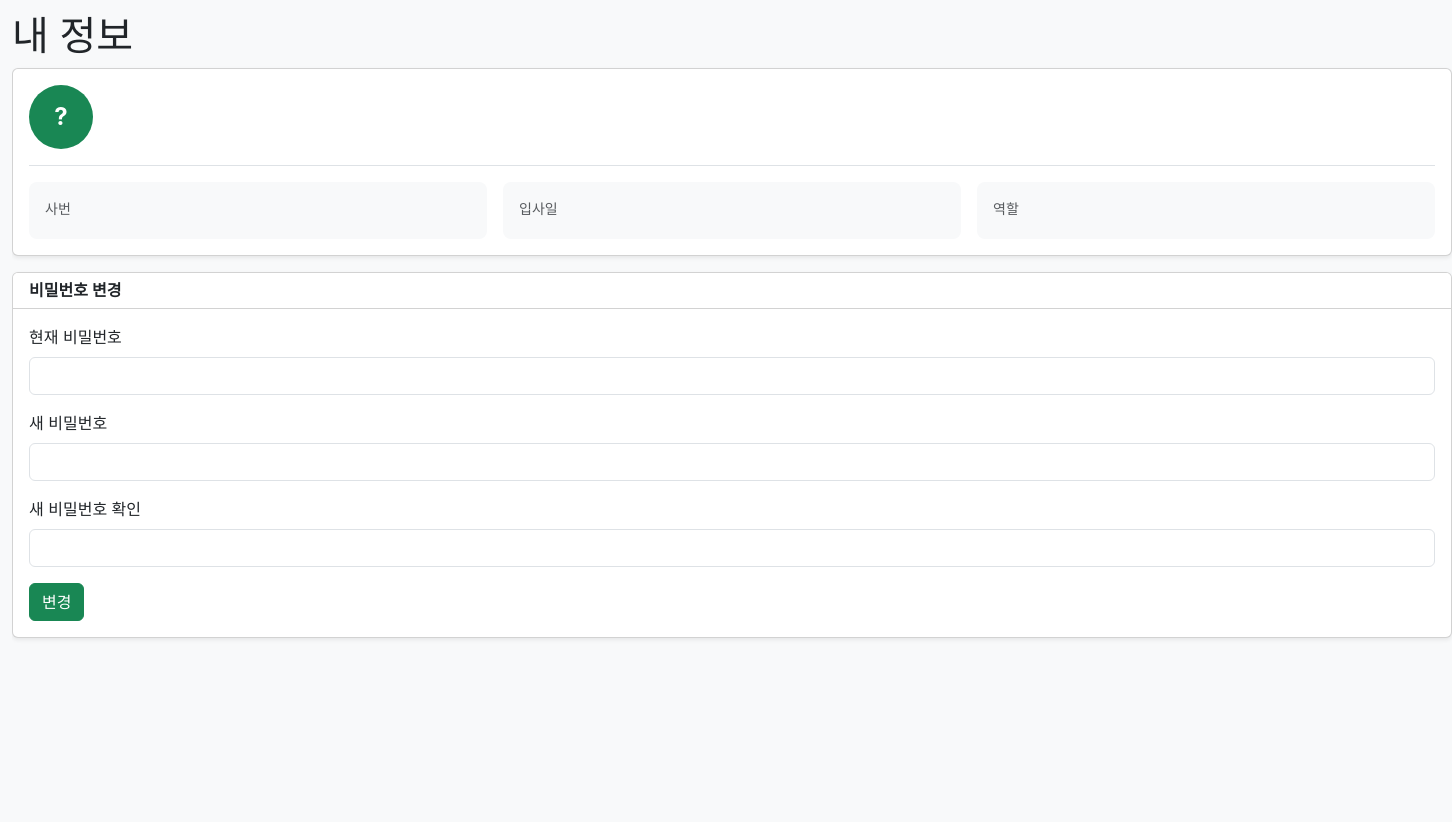
MePage › 정상 변경 시 완료 토스트를 표시한다
In the password field below "현재 비밀번호": [732, 376] box [29,357,1435,395], type "old-pw"
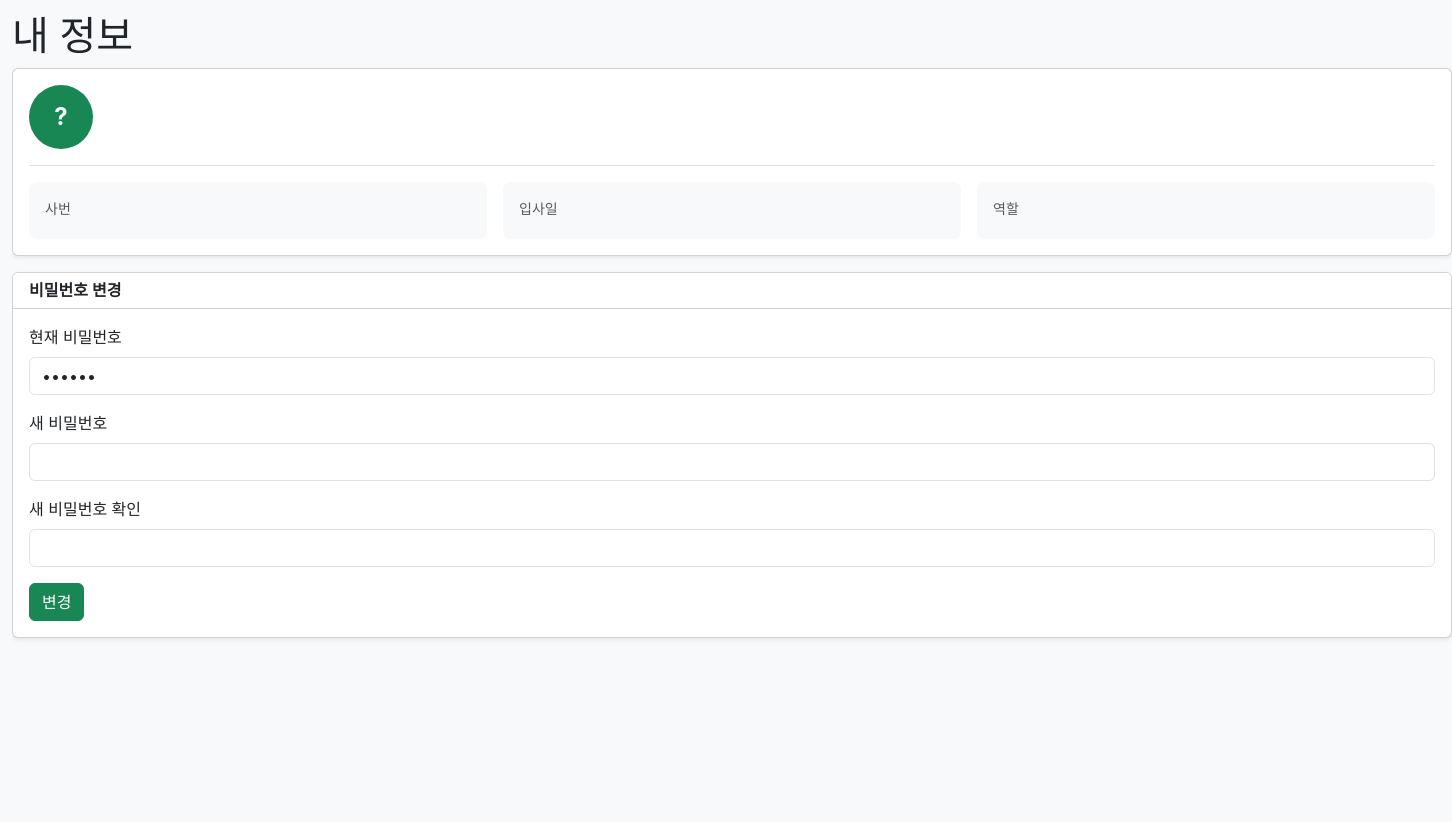
In the 2nd password field: [732, 462] box [29,443,1435,481], type "new-pw1!"
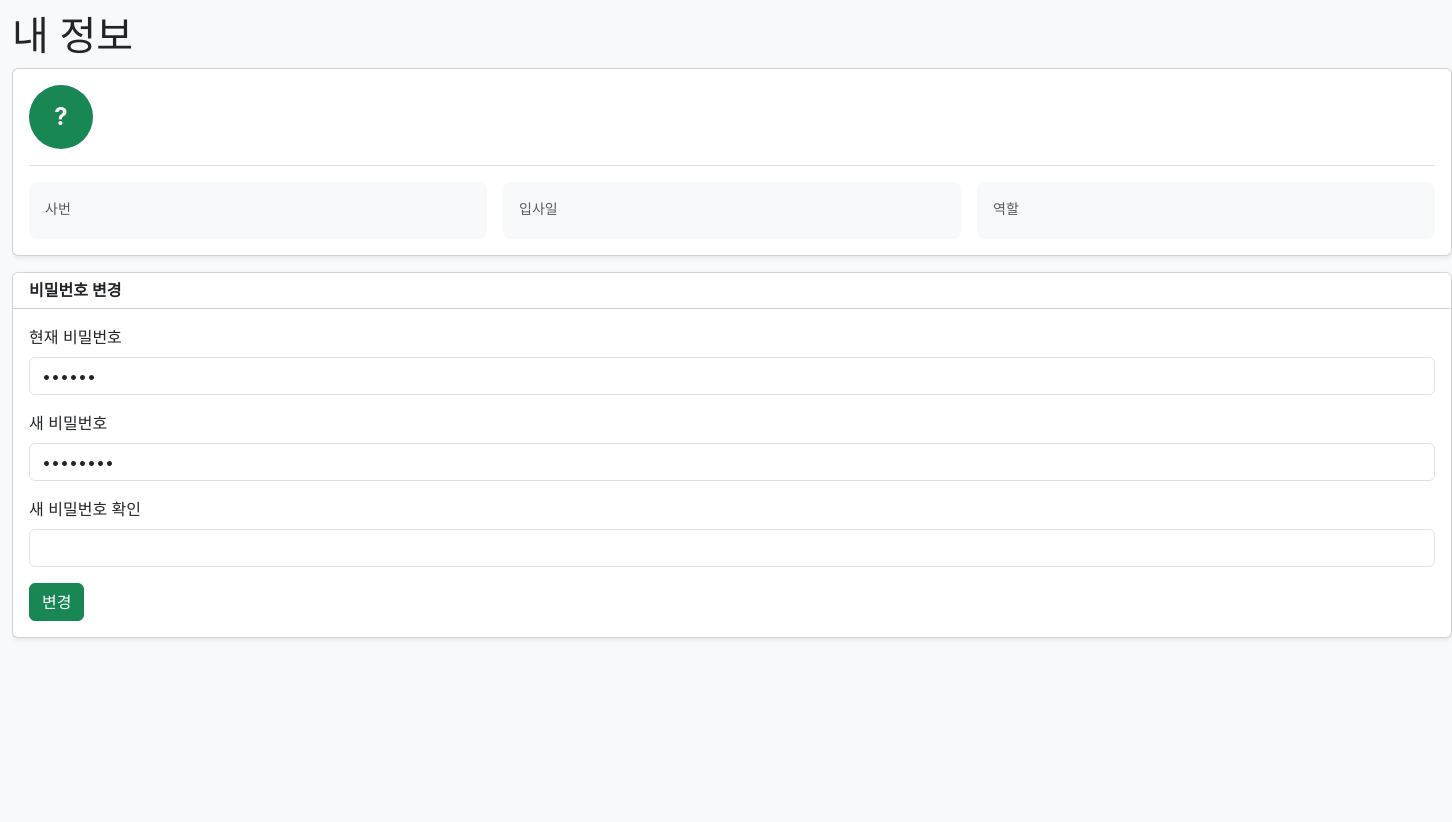
In the password field below "새 비밀번호 확인": [732, 548] box [29,529,1435,567], type "new-pw1!"
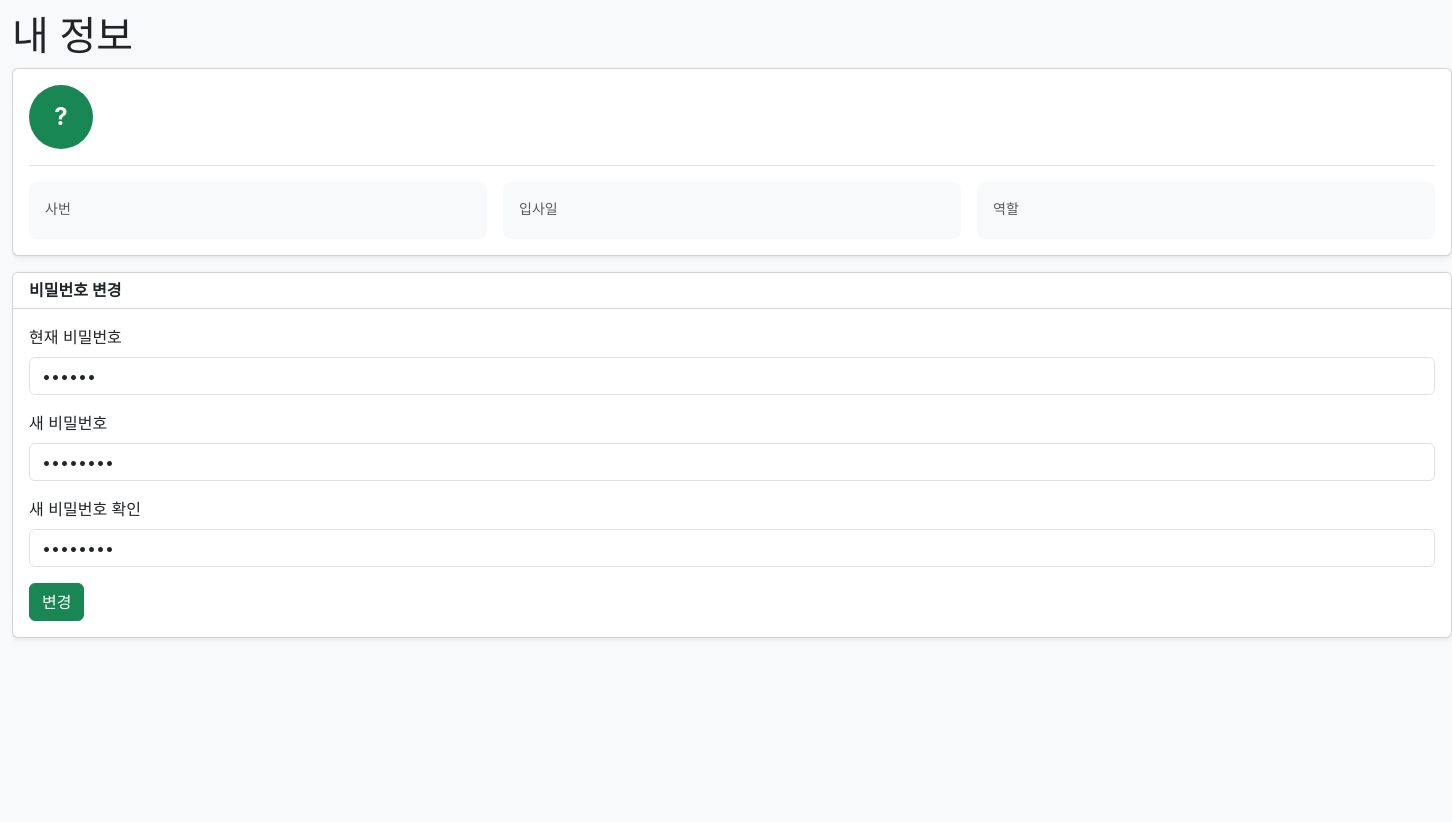
Click the button "변경": [57, 602] box [29,583,84,621]
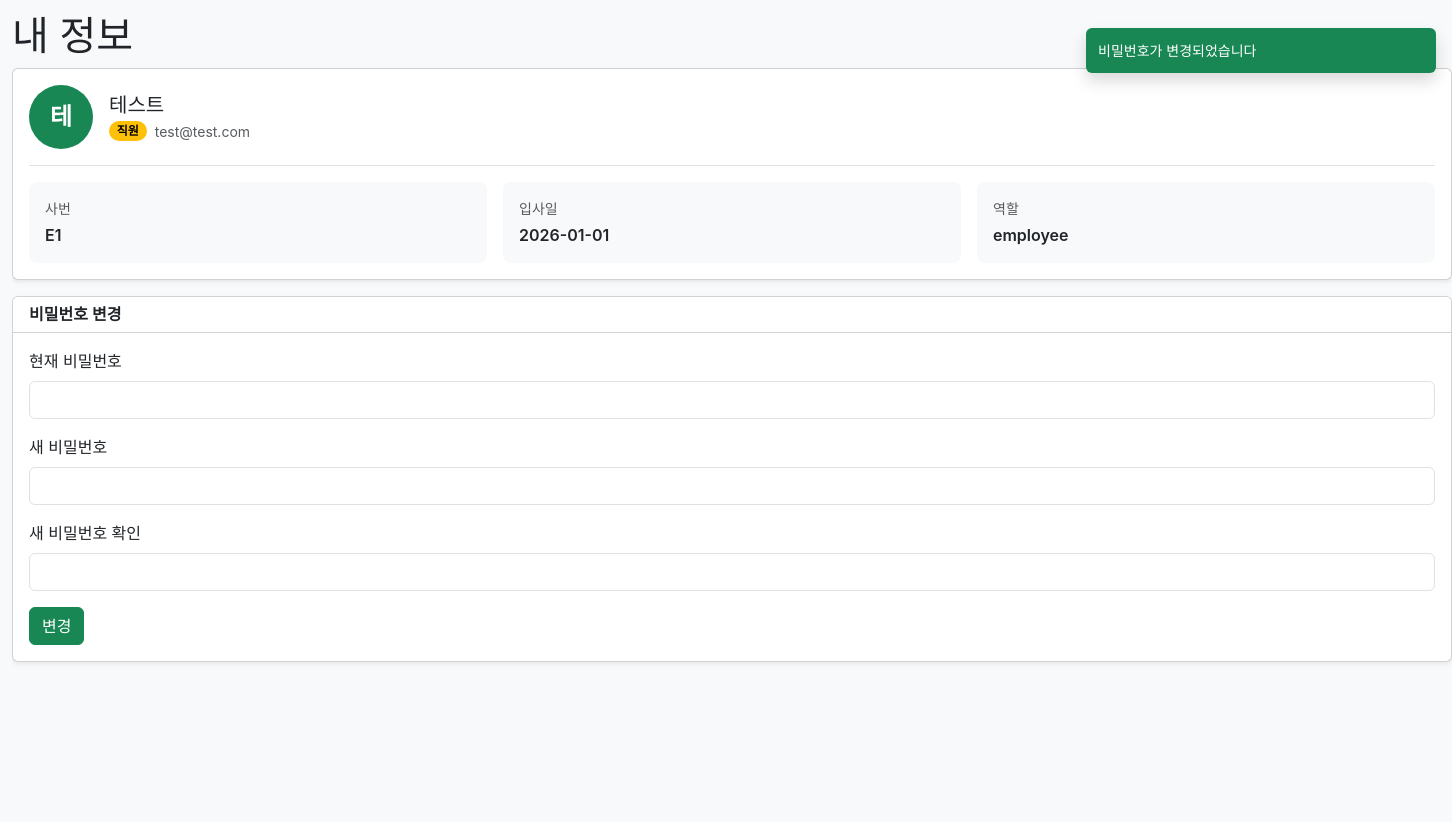
Expected: the message reads "비밀번호가 변경되었습니다", [1098,42,1256,59]
